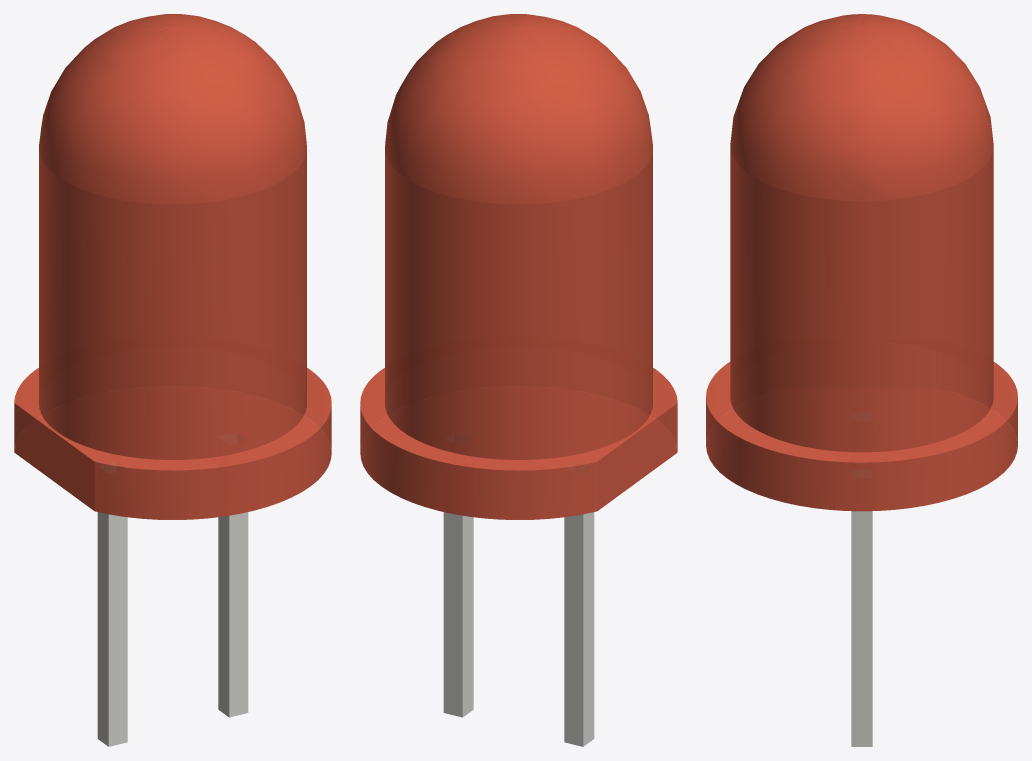
File: led_5mm.glb
The picture shows the model from 3 angles, left to right: view 1: azimuth 30°, elevation 25°; view 2: azimuth 150°, elevation 25°; view 3: azimuth 270°, elevation 25°; orthographic projection.
Size of the model in its own units: 5.4 by 14.1 by 5.8.
